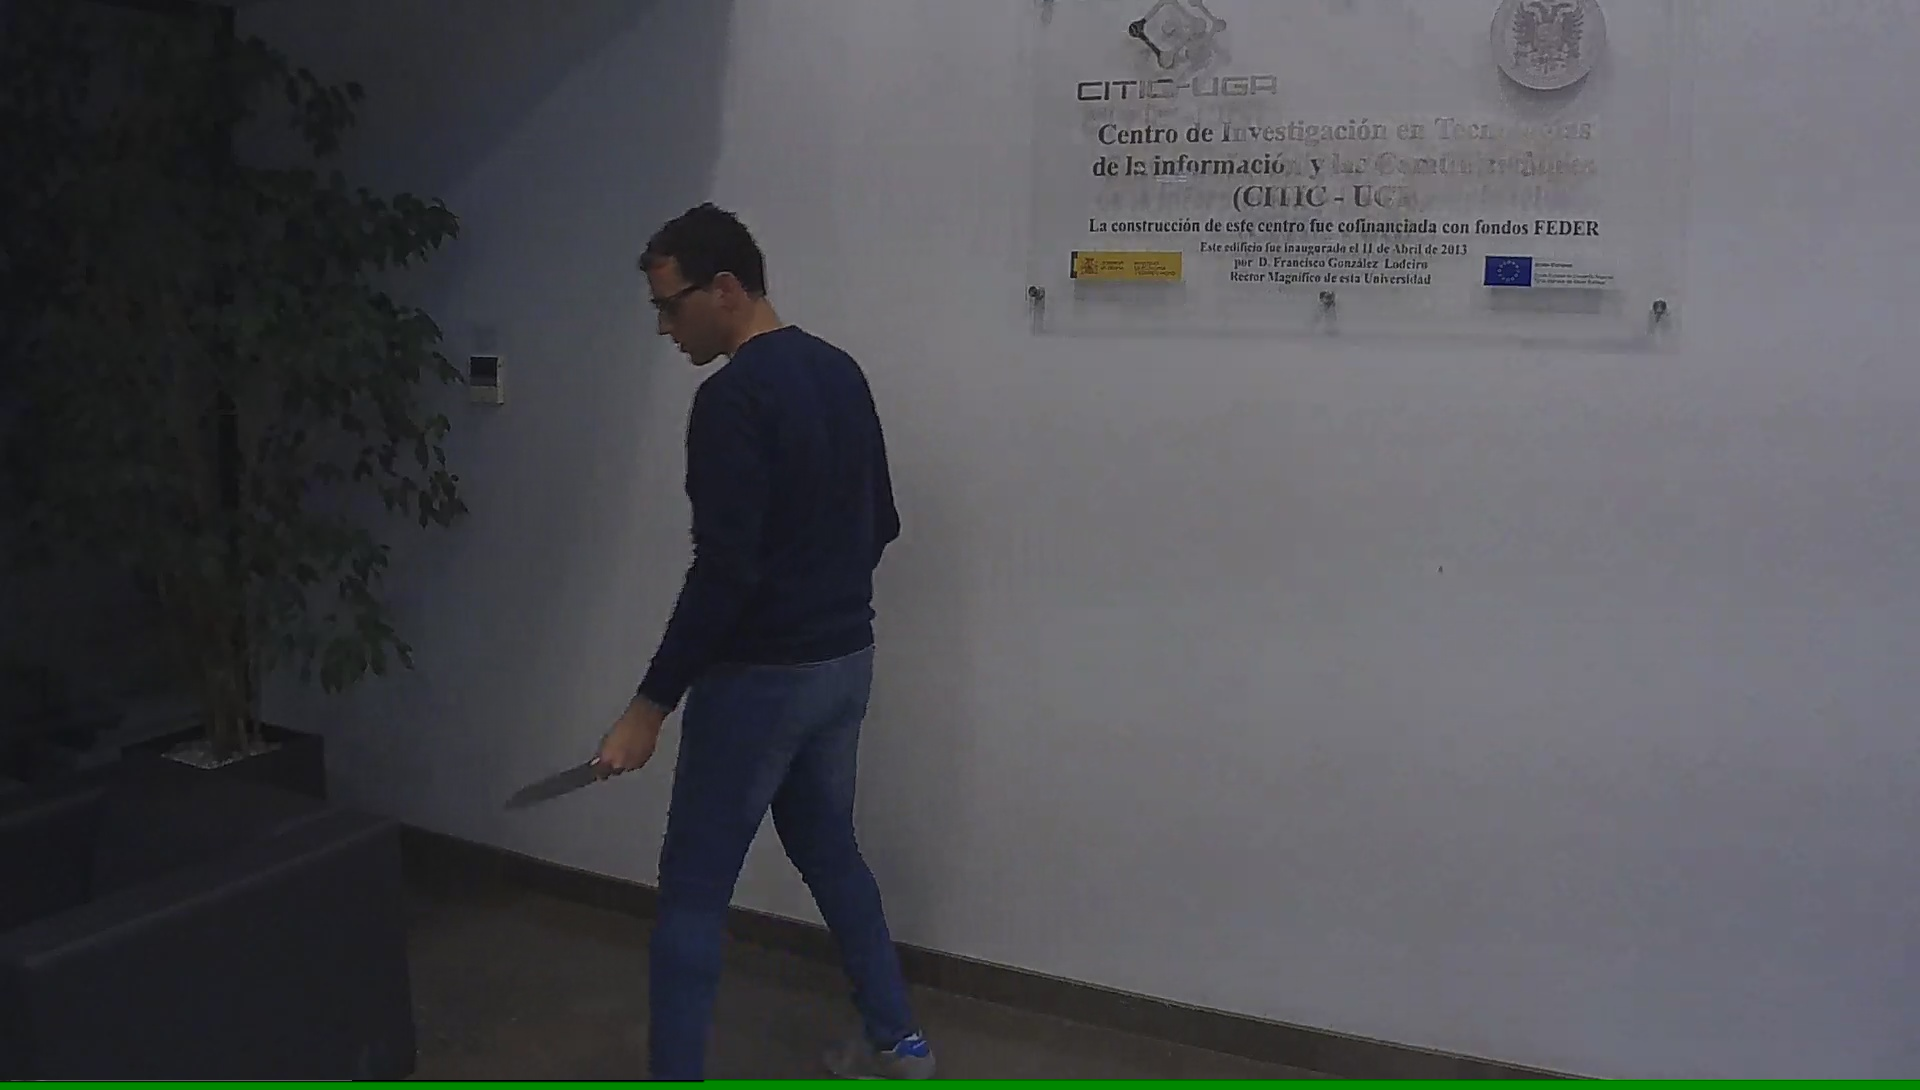knife: (495, 731, 644, 817)
